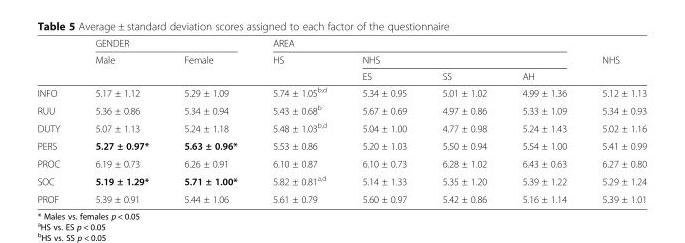table: (36, 37, 646, 204)
table column: (76, 37, 165, 204), (165, 37, 254, 204), (254, 37, 343, 204), (343, 37, 423, 204), (423, 37, 503, 204), (503, 37, 583, 204), (583, 37, 646, 204), (36, 37, 76, 204)
table column header: (36, 37, 646, 83)
table row: (36, 171, 646, 190), (36, 100, 646, 118), (36, 118, 646, 136), (36, 136, 646, 154), (36, 83, 646, 100), (36, 154, 646, 171), (36, 51, 646, 67), (36, 67, 646, 83), (36, 37, 646, 51), (36, 190, 646, 204)
table spanning cell: (254, 37, 583, 51), (343, 51, 583, 67), (583, 37, 646, 83), (76, 51, 165, 83), (165, 51, 254, 83), (254, 51, 343, 83), (76, 37, 254, 51)
